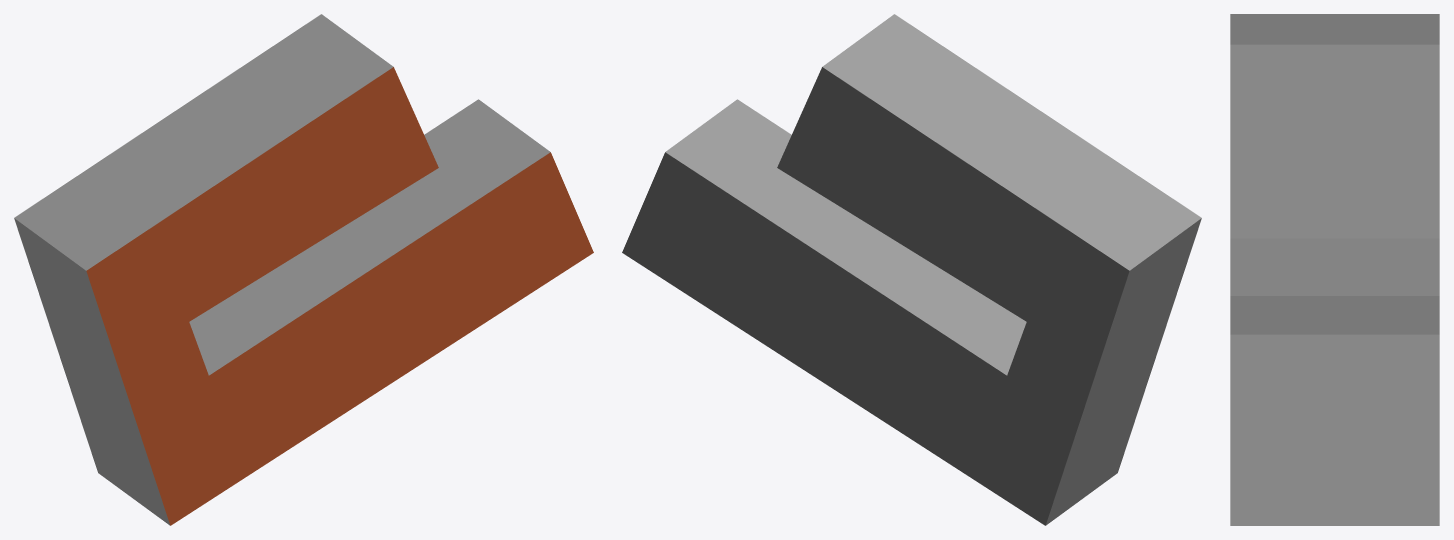
The model's file is construction_4266_assumed_A_Casa_h6m.obj.
The picture shows the model from 3 angles, left to right: view 1: azimuth 30°, elevation 25°; view 2: azimuth 150°, elevation 25°; view 3: azimuth 270°, elevation 25°; orthographic projection. The views are drawn at different scales.
Parts seen in each view (by area): view 1: construction_4266_assumed_A_Casa; view 2: construction_4266_assumed_A_Casa; view 3: construction_4266_assumed_A_Casa.
Boxes of the visible parts, x1,y1,x2,y2 form: construction_4266_assumed_A_Casa: [14, 14, 593, 525]; construction_4266_assumed_A_Casa: [622, 14, 1201, 525]; construction_4266_assumed_A_Casa: [1230, 14, 1439, 525].
Size of the model in its own units: 24.33 by 18.53 by 6.
